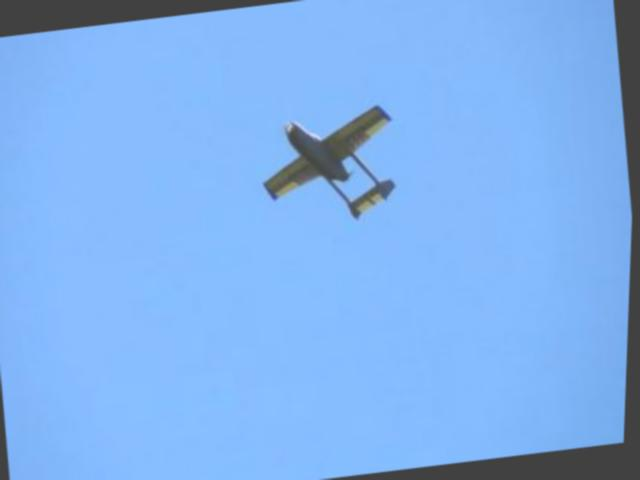uav: (253, 94, 405, 231)
